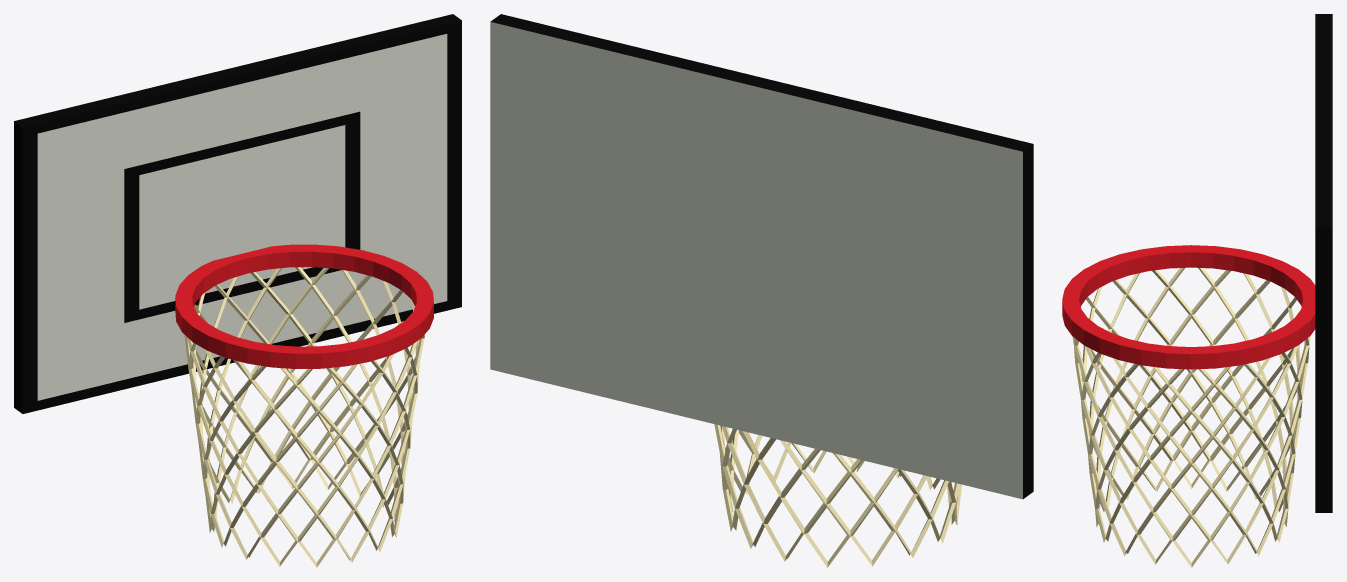
Rendered from basket.fbx.
The picture shows the model from 3 angles, left to right: view 1: azimuth 30°, elevation 25°; view 2: azimuth 150°, elevation 25°; view 3: azimuth 270°, elevation 25°; orthographic projection. The views are drawn at different scales.
Parts seen in each view (by area): view 1: Plane, Cylinder, Circle; view 2: Plane, Cylinder; view 3: Cylinder, Circle, Plane.
Boxes of the visible parts, x1,y1,x2,y2 form: Plane: (14, 14, 461, 413); Cylinder: (184, 267, 424, 567); Circle: (175, 244, 433, 368); Plane: (490, 14, 1033, 499); Cylinder: (714, 424, 961, 567); Cylinder: (1072, 268, 1310, 567); Circle: (1062, 245, 1315, 369); Plane: (1315, 14, 1332, 512).
Bounding box in the file's own units: 3.21 × 2.85 × 1.72.
